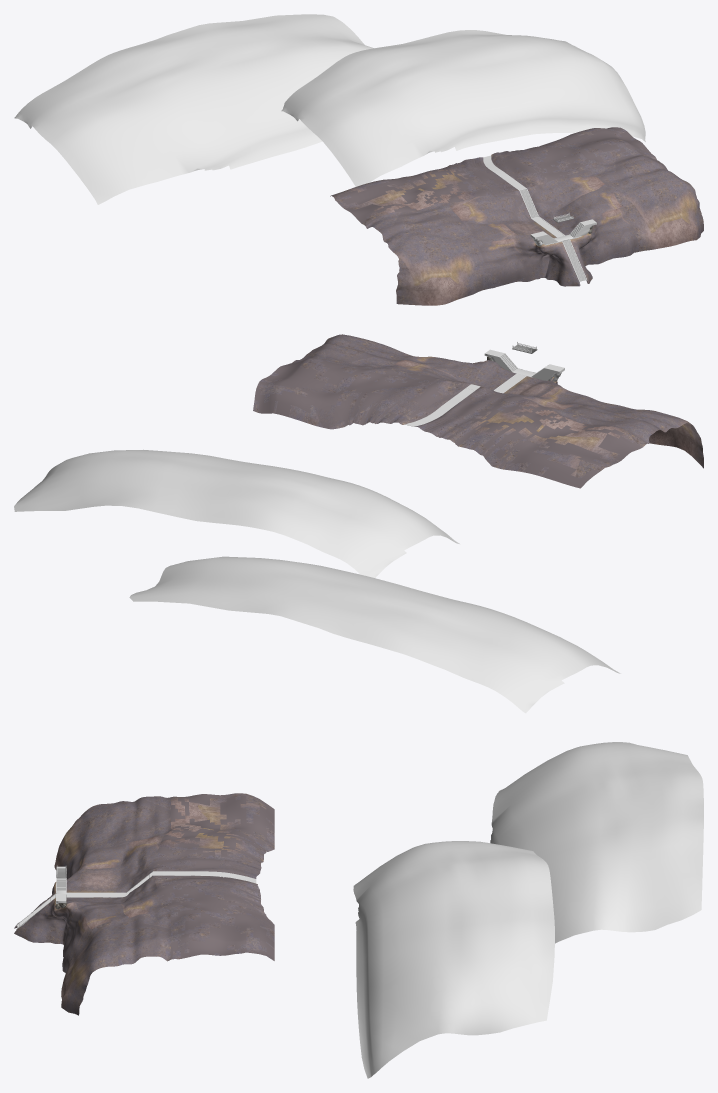
File: Netherworld.FBX
3 views of the same model, one above another, from view 1: azimuth 30°, elevation 25°; view 2: azimuth 150°, elevation 25°; view 3: azimuth 270°, elevation 25° (orthographic). The views are drawn at different scales.
Parts seen in each view (by area): view 1: Plane004, smol mountain001, smol mountain; view 2: Plane004, smol mountain001, smol mountain, Box094; view 3: smol mountain, Plane004, smol mountain001, Box094.
Part boxes in pixels (x1=…): Plane004: x1=330, y1=127, x2=703, y2=305; smol mountain001: x1=14, y1=14, x2=373, y2=204; smol mountain: x1=281, y1=30, x2=645, y2=186; Plane004: x1=253, y1=334, x2=703, y2=488; smol mountain001: x1=129, y1=556, x2=620, y2=713; smol mountain: x1=14, y1=449, x2=459, y2=577; Box094: x1=405, y1=384, x2=480, y2=426; smol mountain: x1=353, y1=841, x2=554, y2=1078; Plane004: x1=14, y1=793, x2=274, y2=1015; smol mountain001: x1=490, y1=742, x2=703, y2=943; Box094: x1=153, y1=871, x2=256, y2=883.
Size of the model in its own units: 5519 by 5740 by 932.
